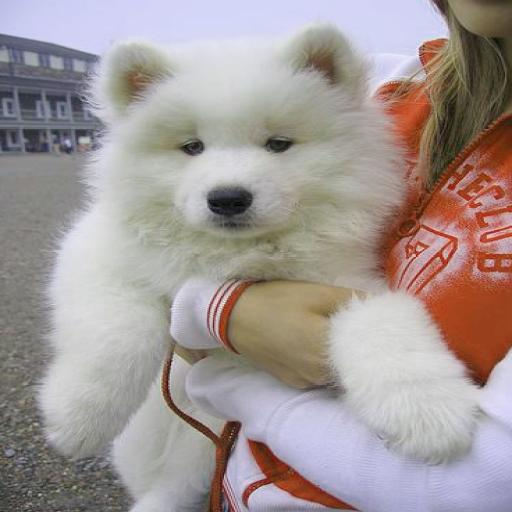dog_face: (98, 25, 360, 238)
